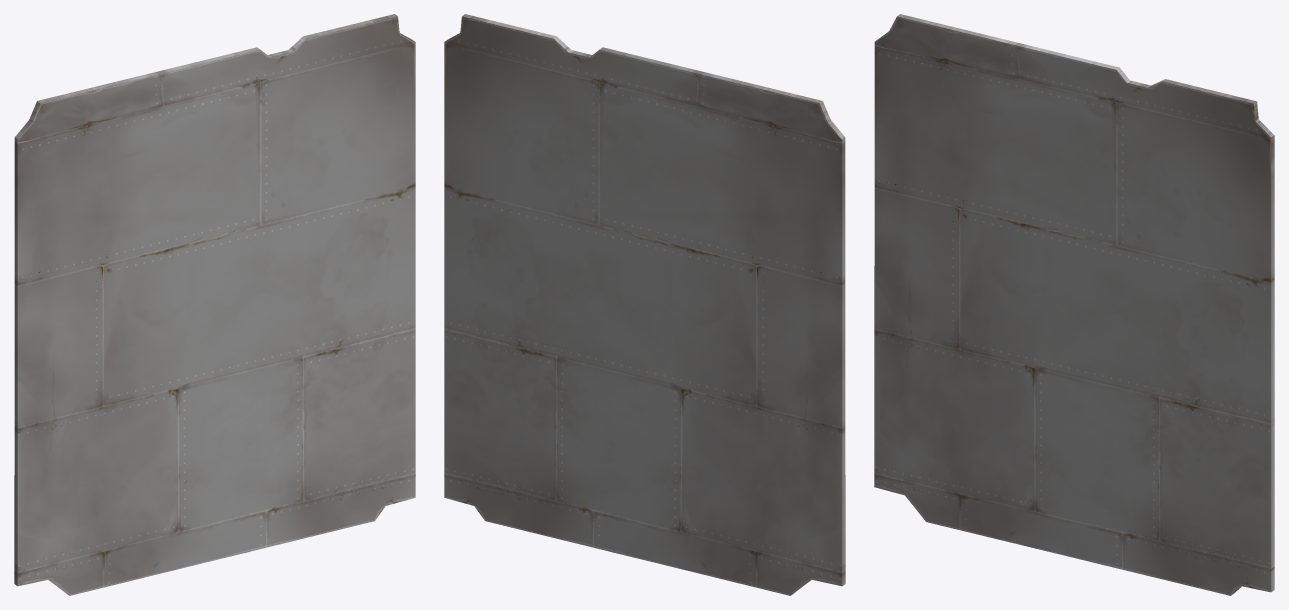
Rendered from Floor2_COL1.FBX.
3 views of the same model, side by side, from view 1: azimuth 30°, elevation 25°; view 2: azimuth 150°, elevation 25°; view 3: azimuth 330°, elevation 25° (orthographic).
Visible parts, largest first — view 1: Floor2_COL1; view 2: Floor2_COL1; view 3: Floor2_COL1.
Boxes of the visible parts, <box> form: Floor2_COL1: <box>14,14,415,595</box>; Floor2_COL1: <box>444,14,845,595</box>; Floor2_COL1: <box>874,14,1274,595</box>.
Bounding box in the file's own units: 14.87 × 17.85 × 0.2105.
